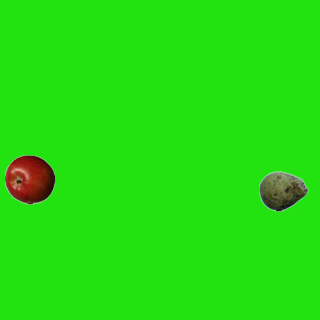Apple Braeburn: (4, 154, 54, 204)
Pear Stone: (258, 166, 308, 216)
